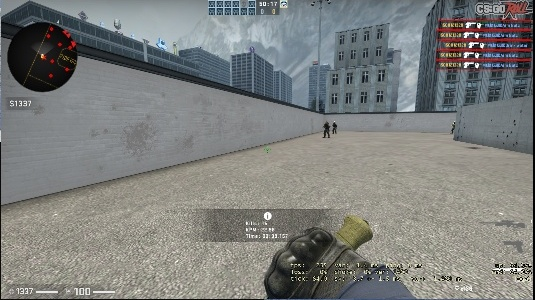body: (323, 121, 330, 138), (451, 121, 456, 135), (332, 121, 337, 134)
head: (325, 120, 329, 125), (333, 120, 336, 125), (454, 120, 456, 125)
